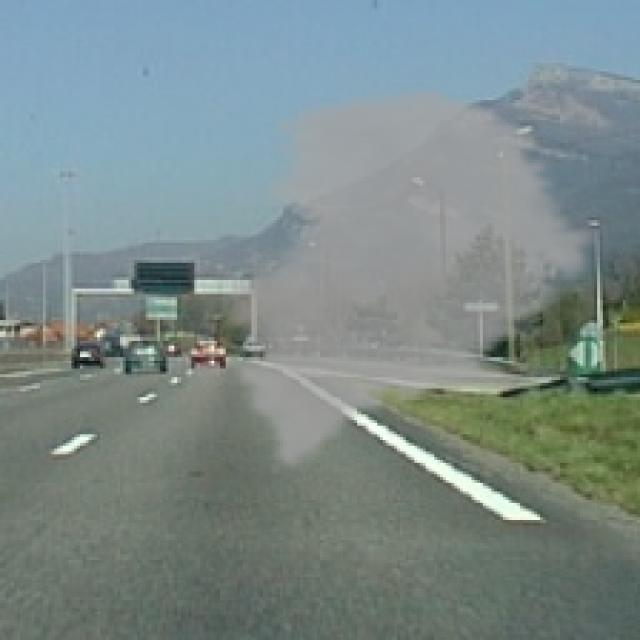smoke: (208, 83, 603, 471)
